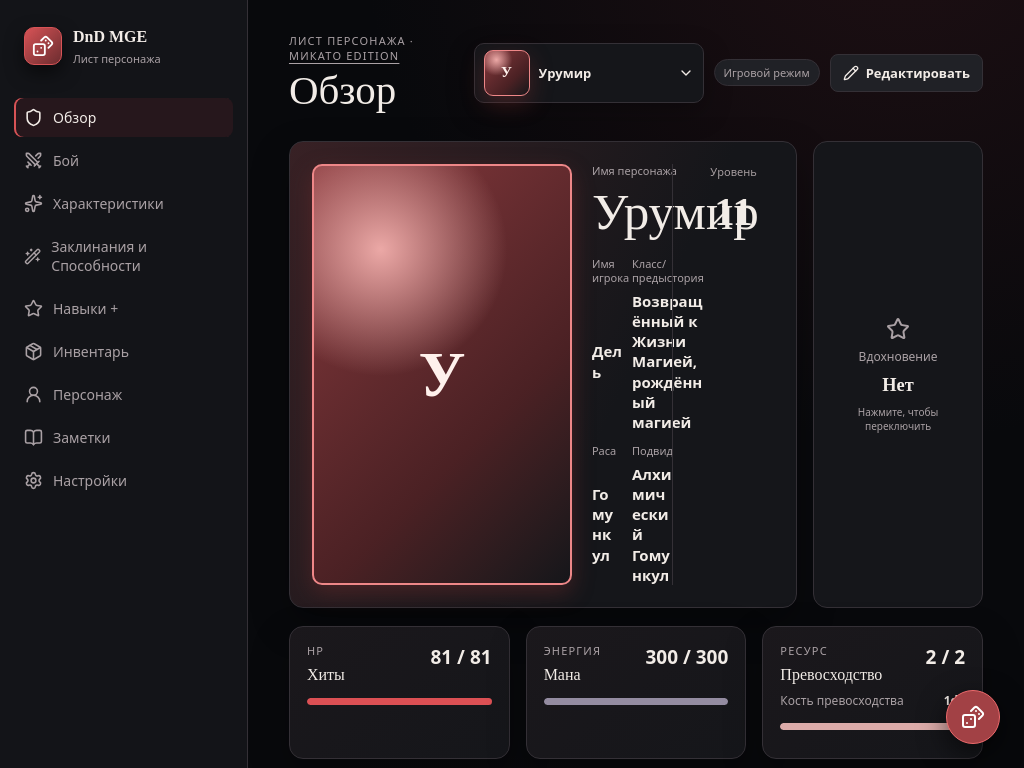
игровые представления листа › ограничивает глобальное редактирование тремя разделами и сохраняет изменения при переходе
This screenshot has width=1024, height=768.
Click the button "Редактировать" at {"x": 906, "y": 73}, box [830,54,983,92]
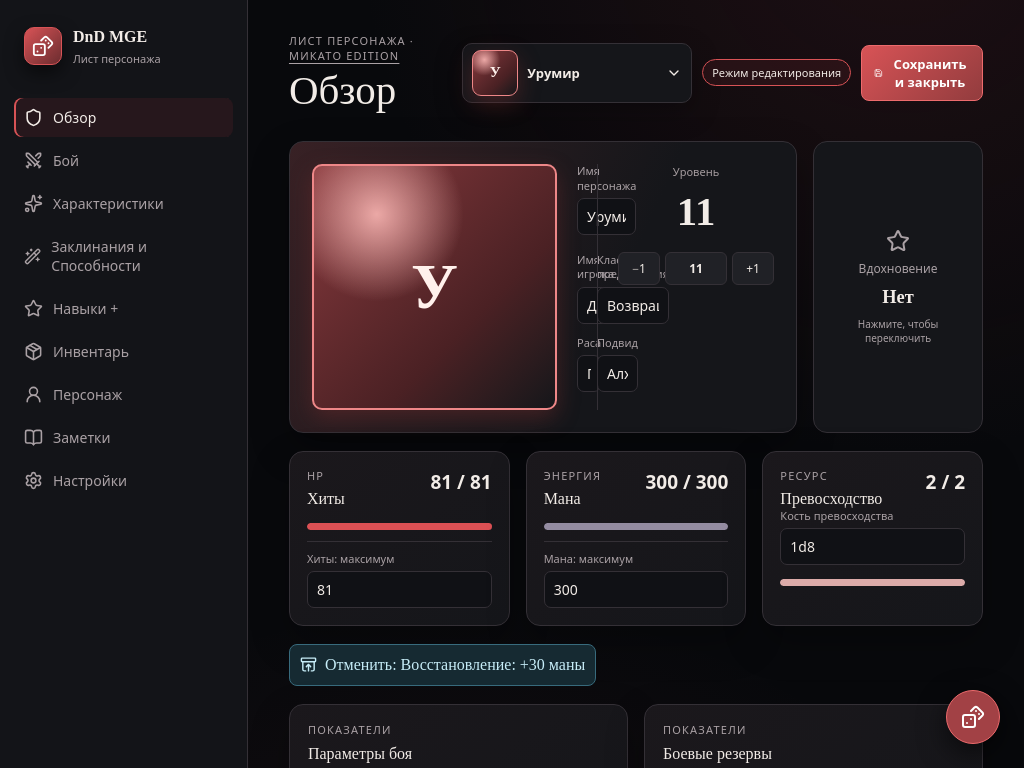
Replace the text in the field named "Имя игрока" with "Новый игрок" at {"x": 596, "y": 305}, box [577,287,614,324]
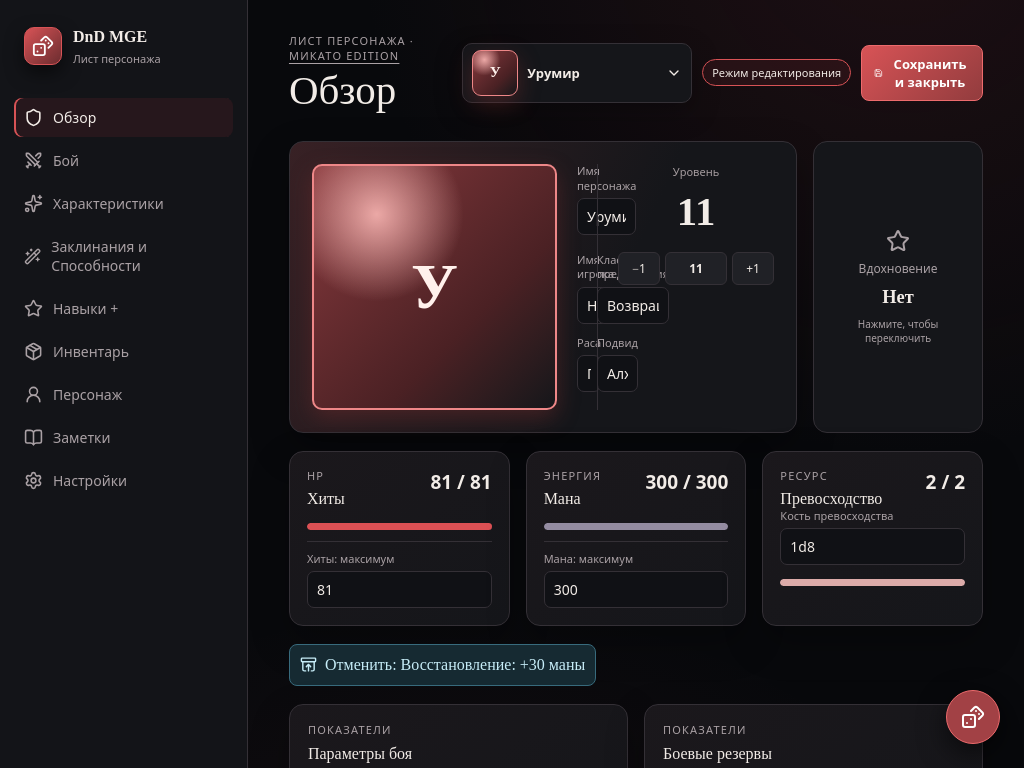
Click the button "Заклинания и Способности" at {"x": 124, "y": 256}, box [14,227,233,285]
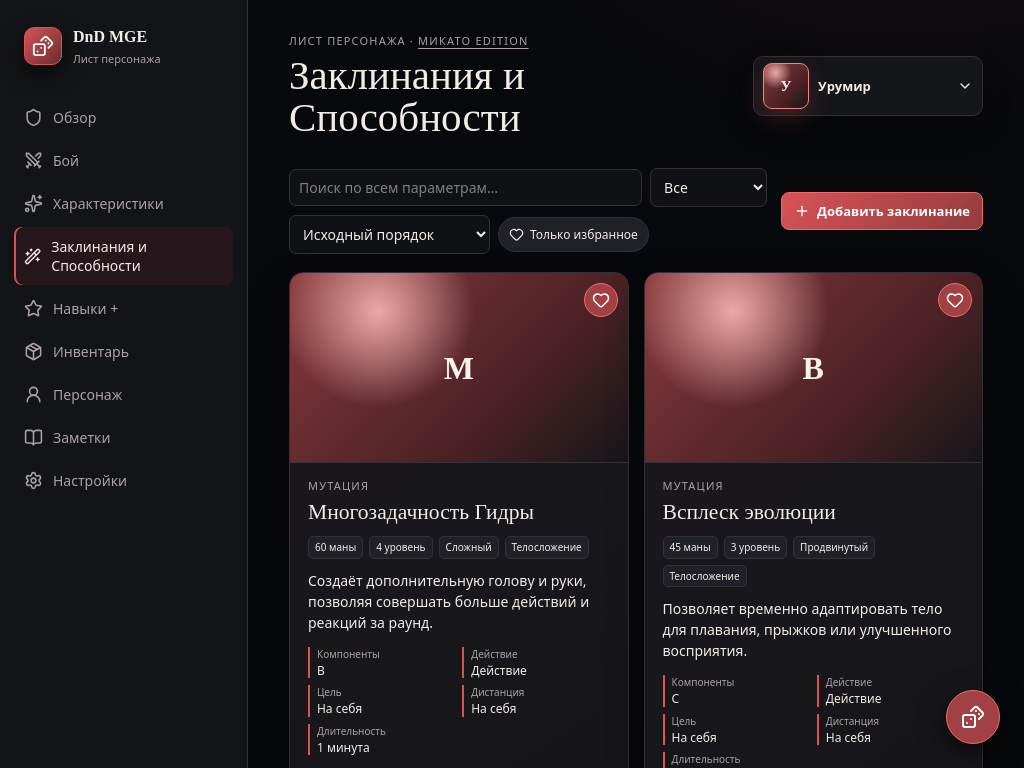
Check: the button "Редактировать" is not shown
Click the button "Персонаж" at {"x": 124, "y": 394}, box [14,375,233,414]
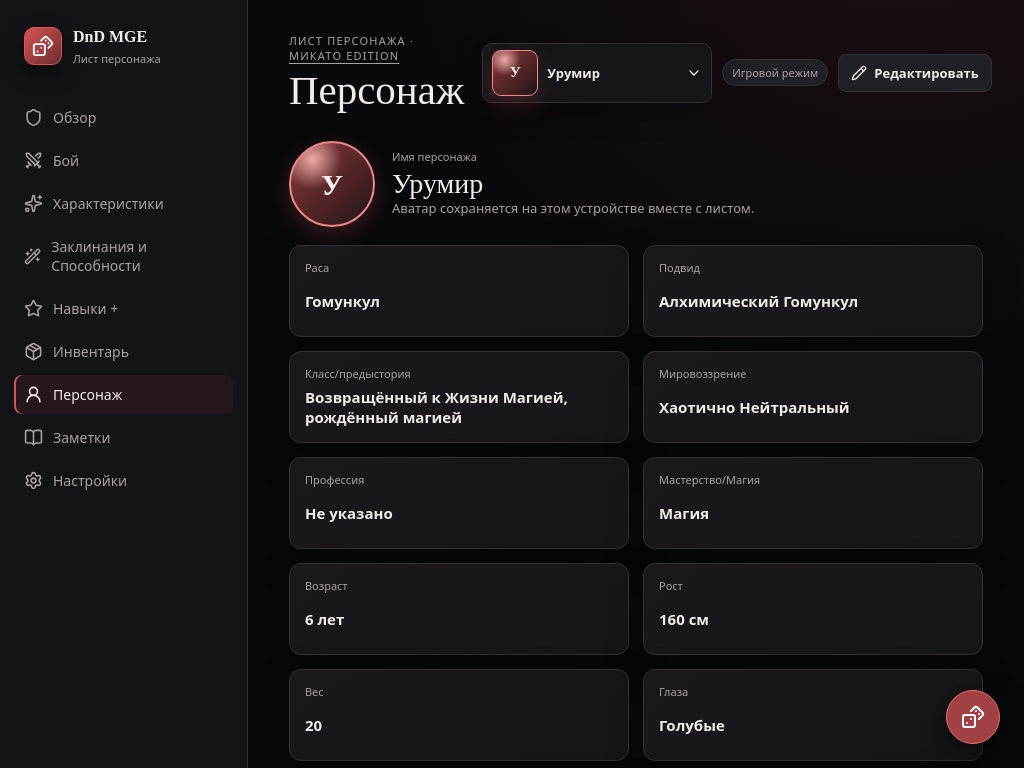
Check: the button "Редактировать" is shown, box [838,54,992,92]
